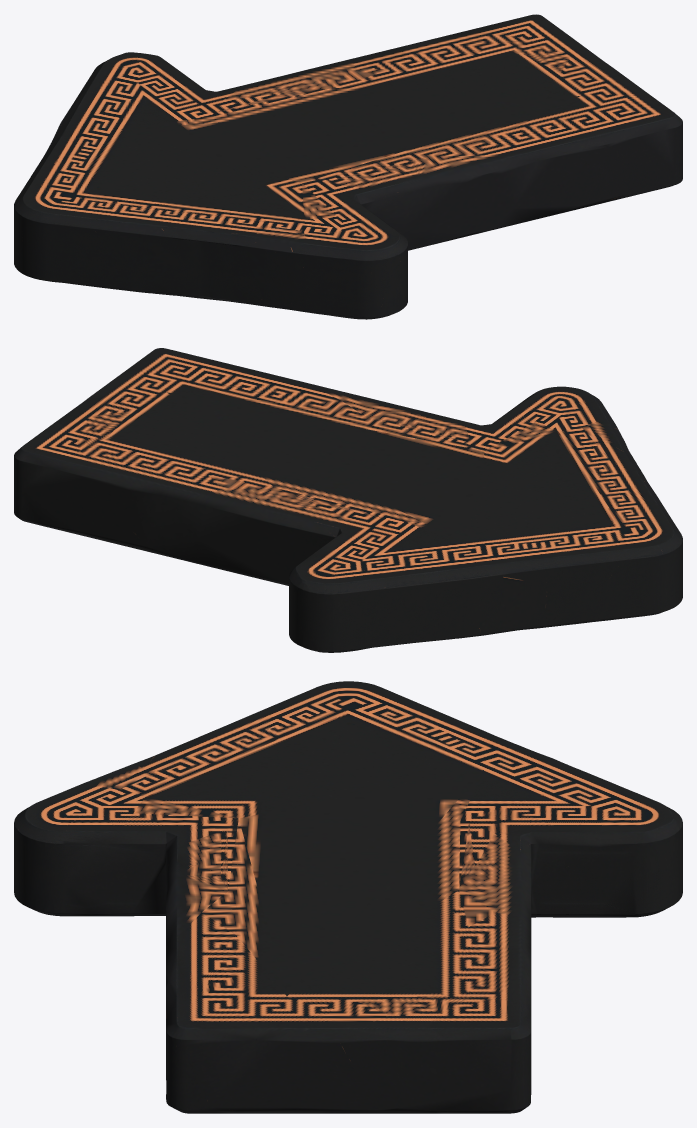
File: 3DArrow.fbx
The picture shows the model from 3 angles, top to bottom: view 1: azimuth 30°, elevation 25°; view 2: azimuth 150°, elevation 25°; view 3: azimuth 270°, elevation 25°; orthographic projection. The views are drawn at different scales.
Visible parts, largest first — view 1: Mesh_0; view 2: Mesh_0; view 3: Mesh_0.
Part boxes in pixels (left/top/right/bottom): Mesh_0: left=14, top=14, right=682, bottom=319; Mesh_0: left=14, top=348, right=682, bottom=652; Mesh_0: left=14, top=681, right=682, bottom=1113.
Size of the model in its own units: 190 by 21.3 by 151.
Materials: 1 (1 with a texture image).
